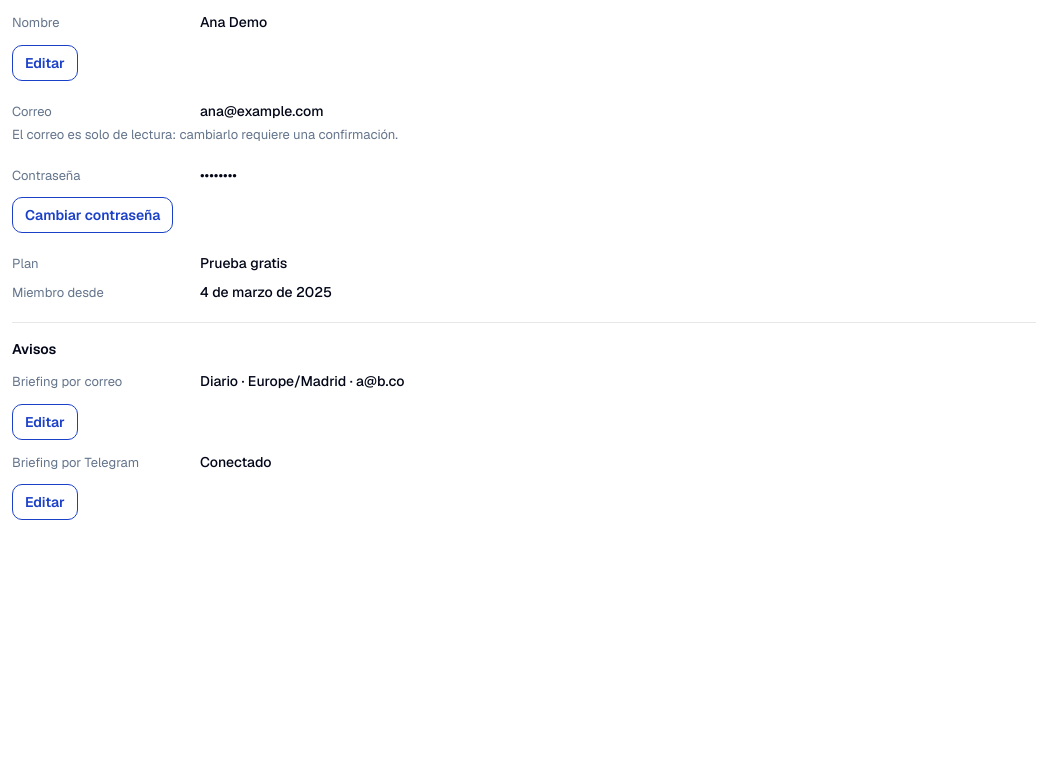
Test: Mi cuenta › Editar opens the name form
Click the button "Editar" below "Nombre": [45, 62] box top-left (12, 44), bottom-right (78, 80)
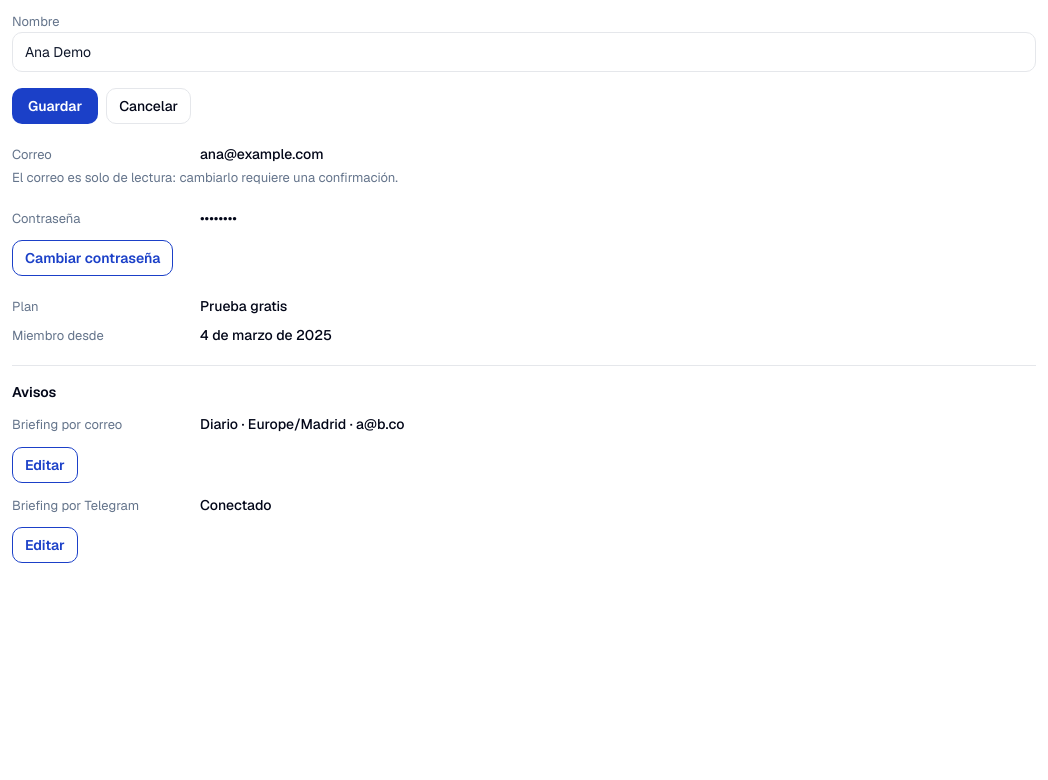
Expected: the field with placeholder "Tu nombre" is shown, top-left (12, 32), bottom-right (1036, 72)
